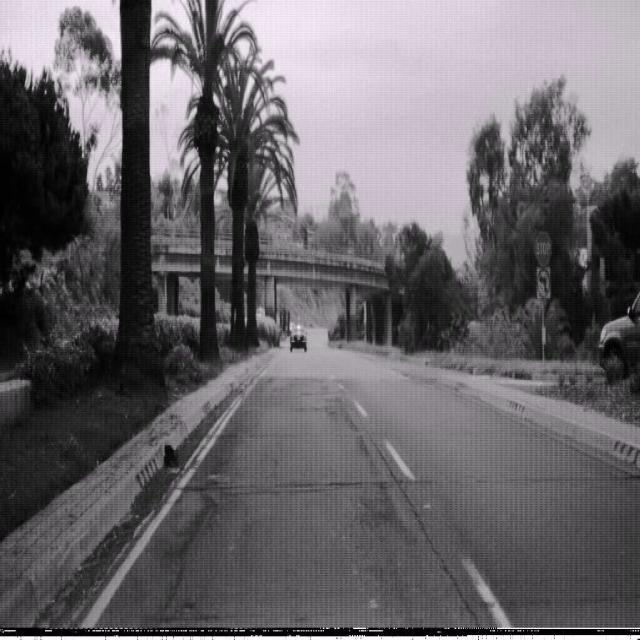noLeftTurn: (536, 266, 551, 298)
stop: (534, 229, 552, 266)
